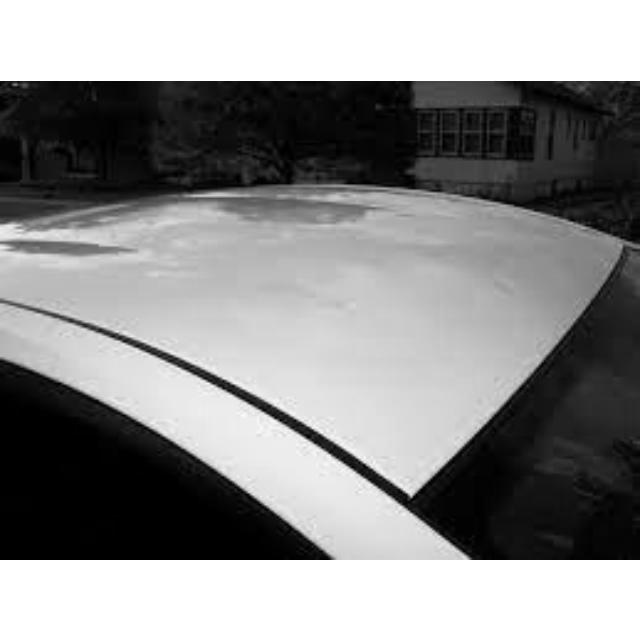roof-dent: (275, 189, 450, 483), (430, 191, 598, 401)
